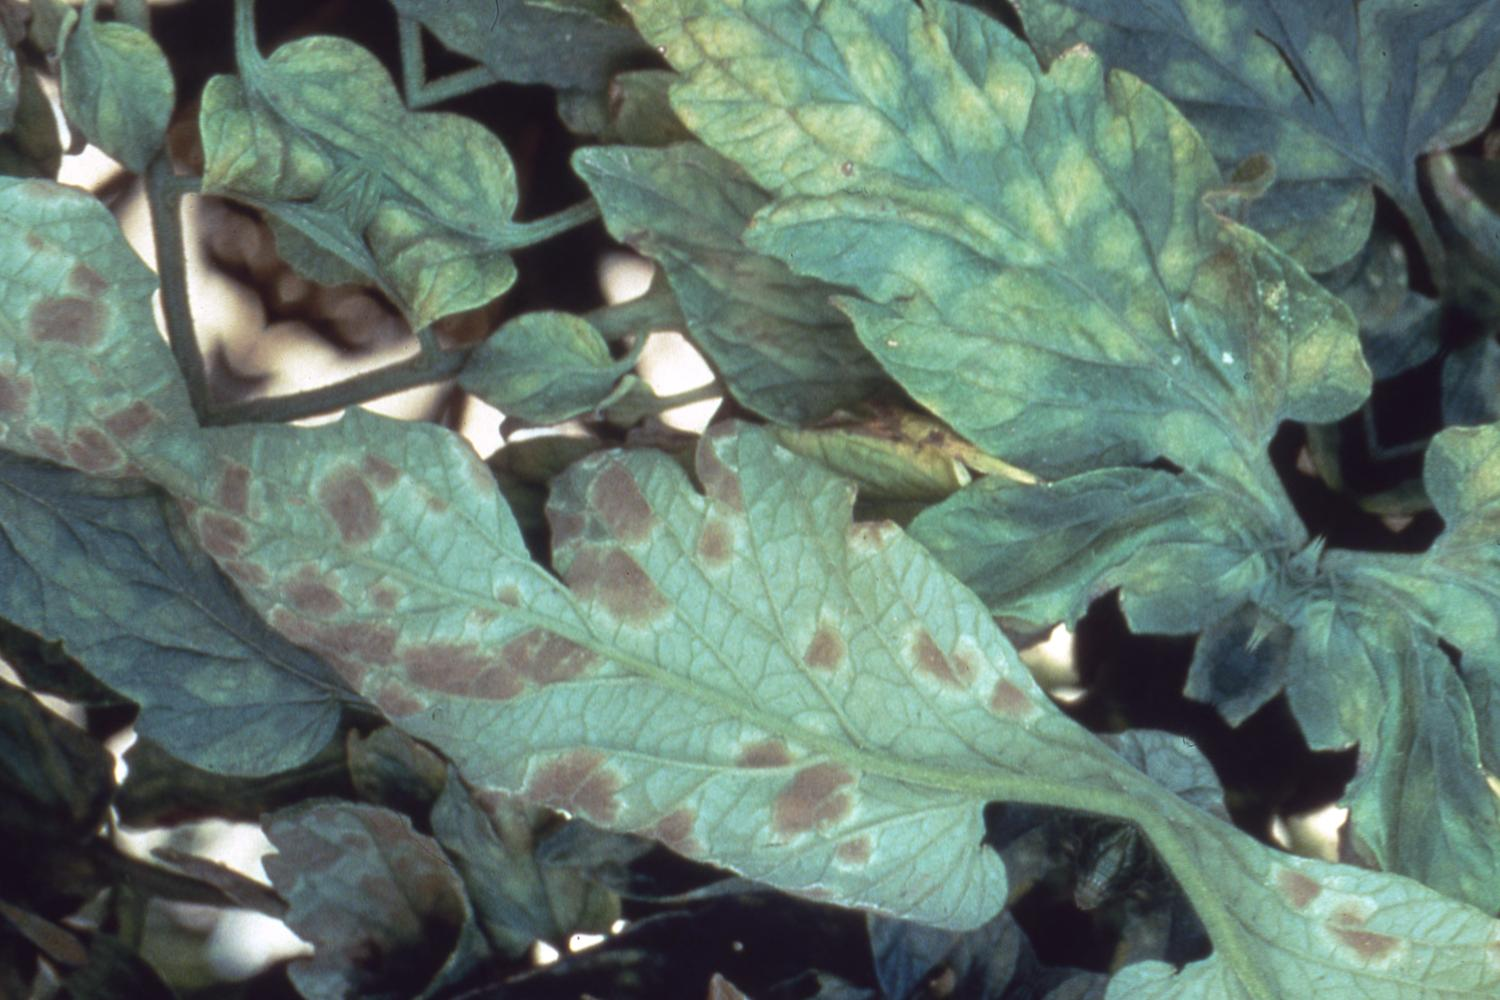Tomato mold leaf: (108, 166, 1184, 1000), (465, 0, 1452, 599), (768, 0, 1484, 315), (296, 78, 586, 384)
